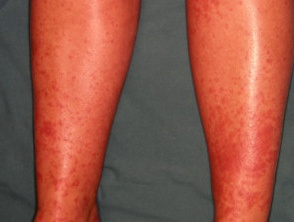SJS-TEN: (195, 73, 294, 222), (32, 42, 113, 222)
